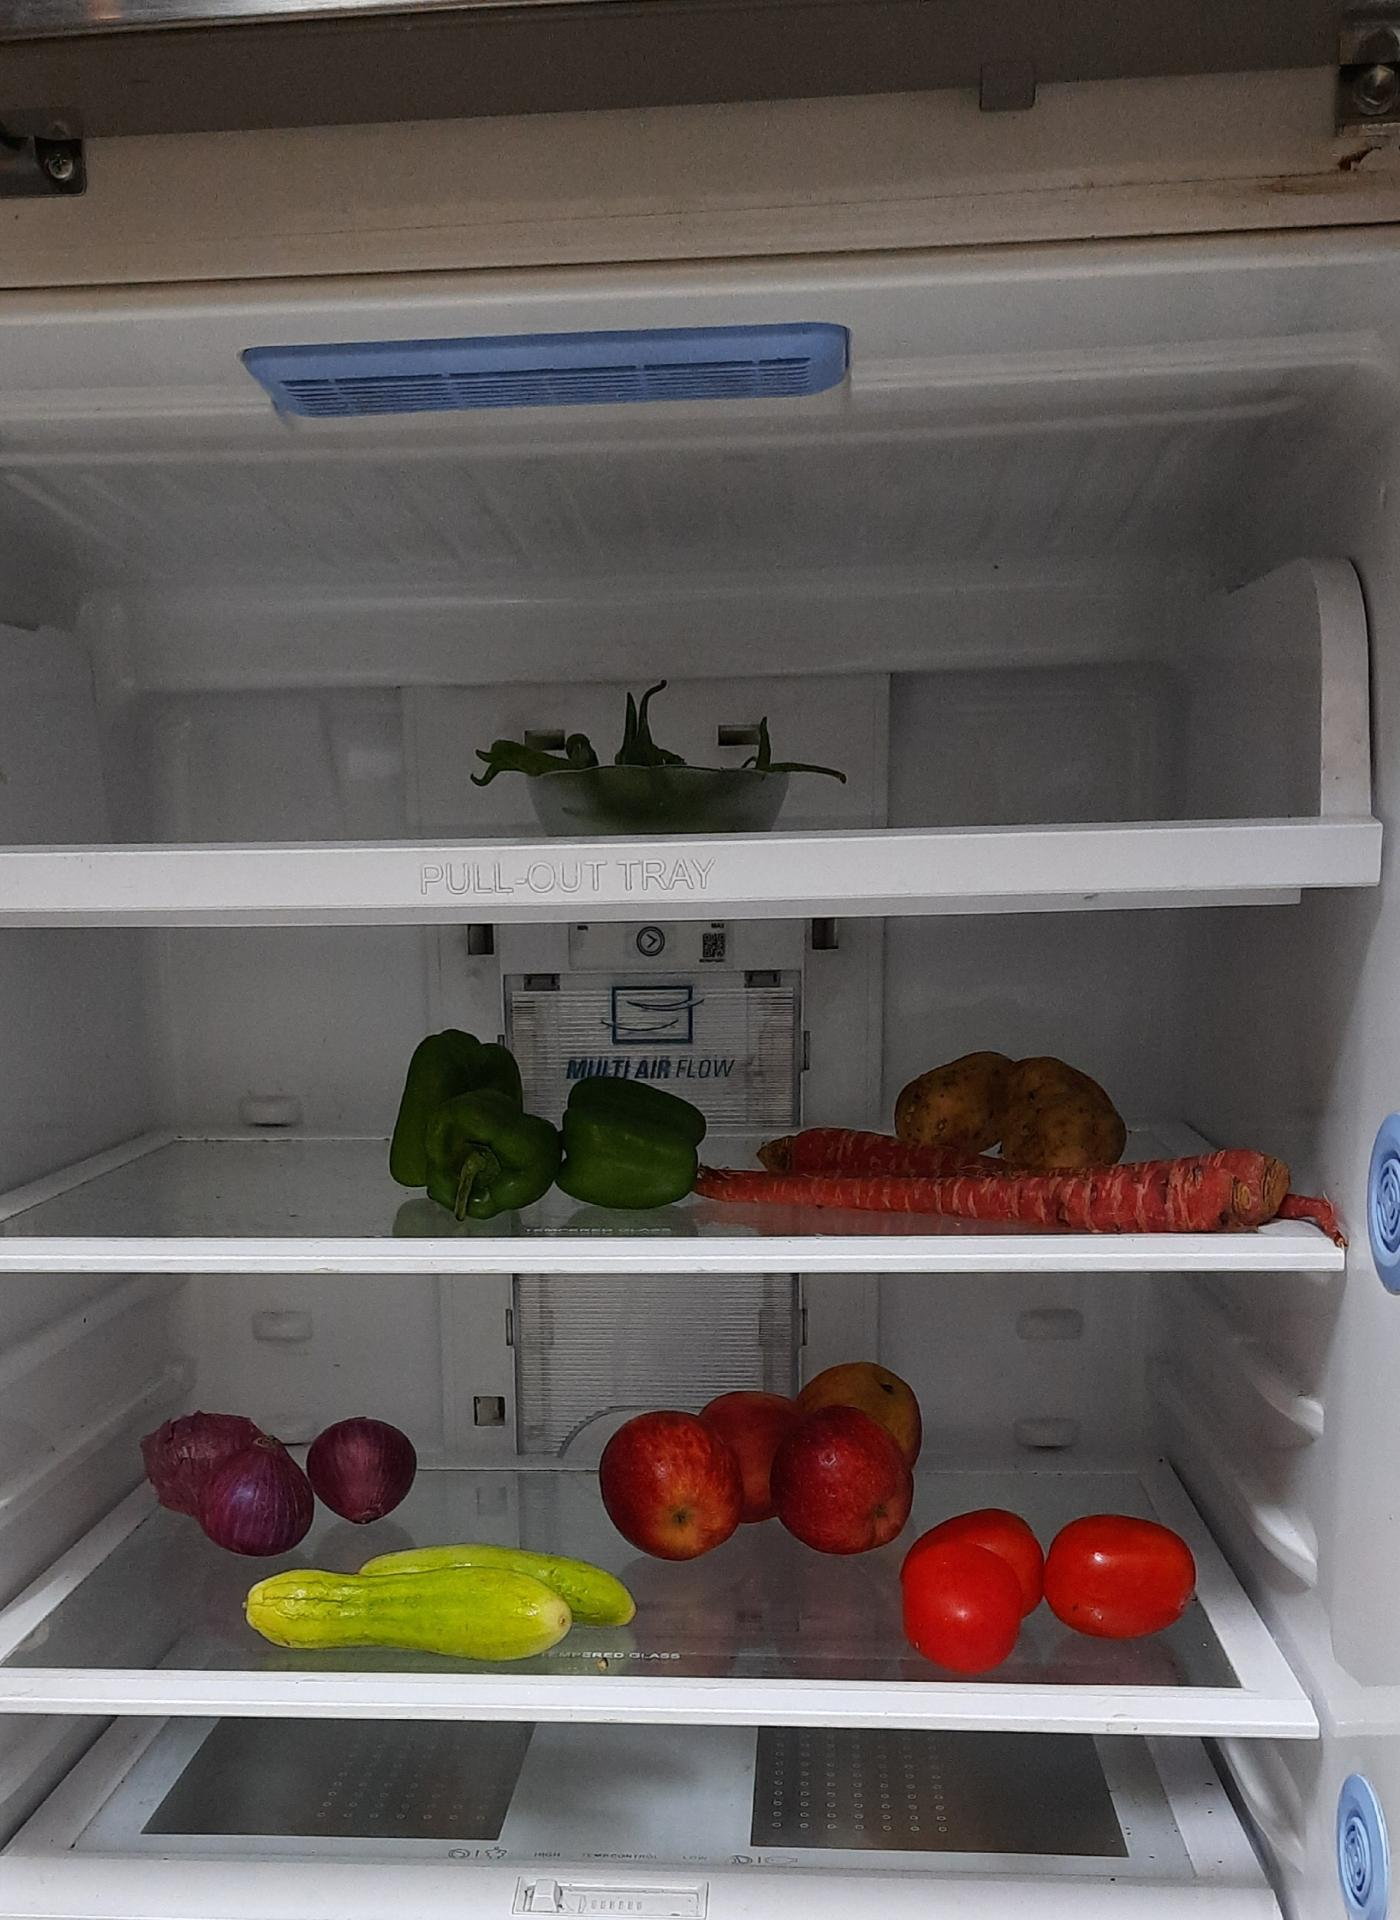apple: (596, 1358, 923, 1561)
capsicum: (392, 1024, 713, 1221)
carrots: (695, 1125, 1297, 1233)
chillies: (467, 681, 842, 800)
cucumber: (265, 1544, 643, 1656)
onion: (148, 1406, 425, 1558)
potato: (886, 1045, 1129, 1176)
tomato: (899, 1507, 1197, 1662)
